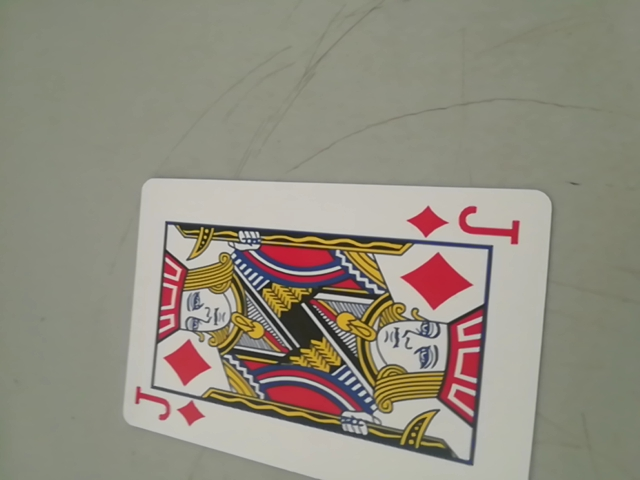fk j: (405, 200, 527, 245), (133, 388, 209, 433)
